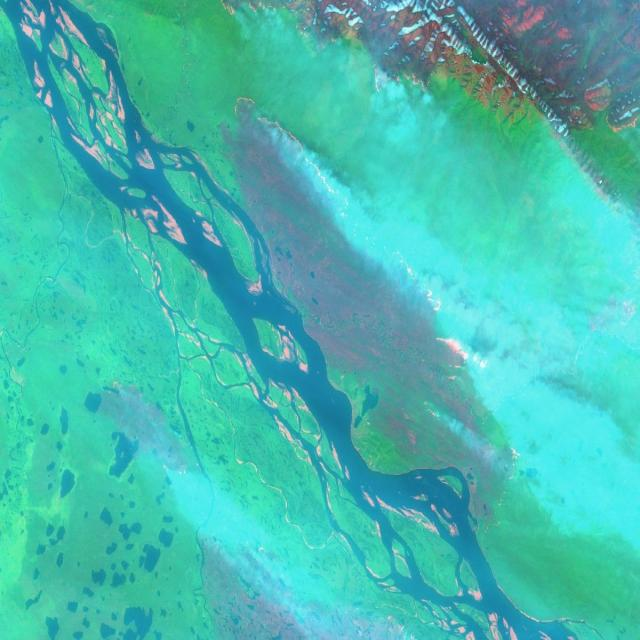fire: (232, 85, 482, 394), (216, 0, 344, 52)
